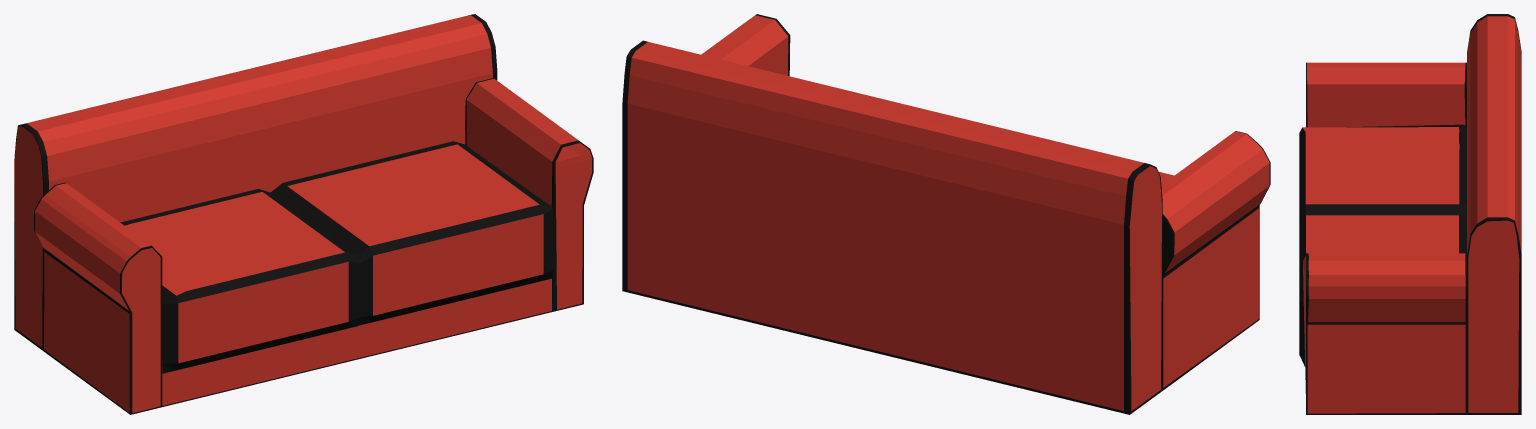
The picture shows the model from 3 angles, left to right: view 1: azimuth 30°, elevation 25°; view 2: azimuth 150°, elevation 25°; view 3: azimuth 270°, elevation 25°; orthographic projection. The views are drawn at different scales.
Parts seen in each view (by area): view 1: node_MeshObject204901376-PolyPaper8; view 2: node_MeshObject204901376-PolyPaper8; view 3: node_MeshObject204901376-PolyPaper8.
Boxes of the visible parts, x1,y1,x2,y2 form: node_MeshObject204901376-PolyPaper8: [14, 14, 593, 414]; node_MeshObject204901376-PolyPaper8: [622, 14, 1270, 414]; node_MeshObject204901376-PolyPaper8: [1299, 14, 1521, 414].
Size of the model in its own units: 1.48 by 0.6301 by 0.65.
